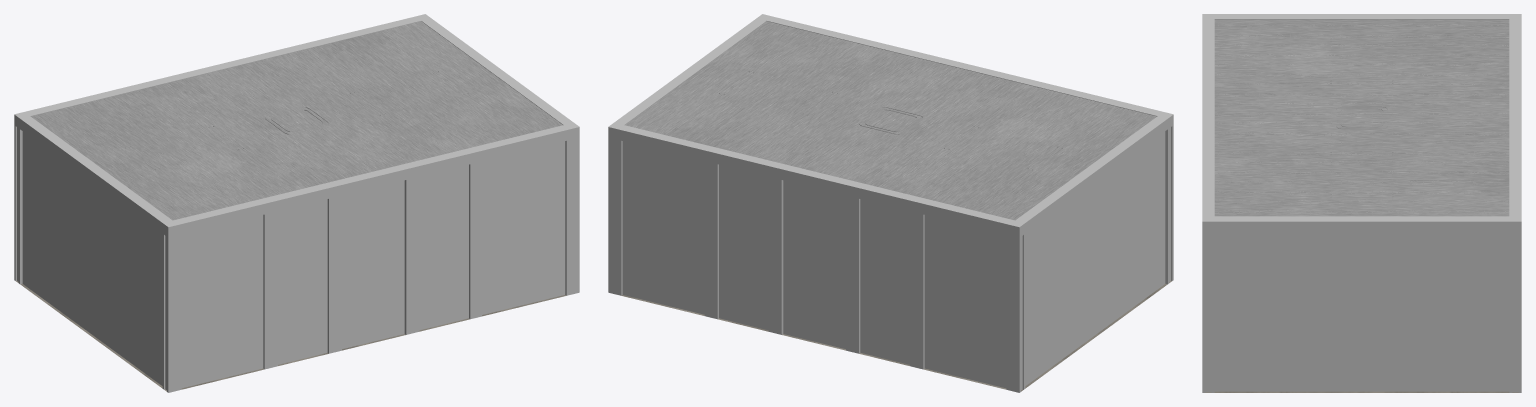
File: lvl_02_Warehouse.fbx
The picture shows the model from 3 angles, left to right: view 1: azimuth 30°, elevation 25°; view 2: azimuth 150°, elevation 25°; view 3: azimuth 270°, elevation 25°; orthographic projection. The views are drawn at different scales.
Parts seen in each view (by area): view 1: SM_WarehouseRoof_01, SM_WarehouseWall_02, SM_WarehouseWall_03, SM_SupportTrim_02, SM_SupportTrim_08, SM_SupportPillar_10, SM_SupportTrim_01, SM_SupportPillar_11, SM_SupportPillar_05, SM_SupportPillar_03, SM_SupportPillar_08, SM_SupportPillar_02 (+3 smaller); view 2: SM_WarehouseRoof_01, SM_WarehouseWall_01, SM_WarehouseWall_03, SM_SupportTrim_01, SM_SupportTrim_08, SM_SupportPillar_09, SM_SupportTrim_02, SM_SupportPillar_12, SM_SupportPillar_06, SM_SupportPillar_01, SM_SupportPillar_04, SM_SupportPillar_07 (+3 smaller); view 3: SM_WarehouseRoof_01, SM_WarehouseWall_04, SM_SupportTrim_07, SM_SupportTrim_02, SM_SupportTrim_01, SM_SupportPillar_07, SM_SupportPillar_08, SM_SupportTrim_08, SM_WarehouseFloor_01, SM_Dropper.
Boxes of the visible parts, x1,y1,x2,y2 form: SM_WarehouseRoof_01: (31,21,562,220); SM_WarehouseWall_02: (181,141,565,388); SM_WarehouseWall_03: (22,131,162,385); SM_SupportTrim_02: (173,125,569,235); SM_SupportTrim_08: (14,112,178,237); SM_SupportPillar_10: (162,234,181,392); SM_SupportTrim_01: (25,16,420,116); SM_SupportPillar_11: (404,177,419,334); SM_SupportPillar_05: (263,211,277,369); SM_SupportPillar_03: (327,195,341,353); SM_SupportPillar_08: (565,137,579,295); SM_SupportPillar_02: (469,161,481,319); SM_WarehouseRoof_01: (625,21,1156,220); SM_WarehouseWall_01: (622,141,1006,388); SM_WarehouseWall_03: (1025,131,1165,385); SM_SupportTrim_01: (618,125,1014,235); SM_SupportTrim_08: (1009,112,1173,237); SM_SupportPillar_09: (1006,234,1025,392); SM_SupportTrim_02: (767,16,1162,116); SM_SupportPillar_12: (768,177,783,334); SM_SupportPillar_06: (910,211,924,369); SM_SupportPillar_01: (704,161,718,319); SM_SupportPillar_04: (846,195,860,353); SM_SupportPillar_07: (608,137,622,295); SM_WarehouseRoof_01: (1214,19,1509,216); SM_WarehouseWall_04: (1214,232,1509,391); SM_SupportTrim_07: (1202,216,1521,232); SM_SupportTrim_02: (1202,19,1214,216); SM_SupportTrim_01: (1509,19,1521,216); SM_SupportPillar_07: (1509,232,1521,392); SM_SupportPillar_08: (1202,232,1214,392); SM_SupportTrim_08: (1202,14,1521,19); SM_WarehouseFloor_01: (1205,391,1518,392); SM_Dropper: (1336,106,1387,129).
Bounding box in the file's own units: 3423 × 1318 × 2224.
